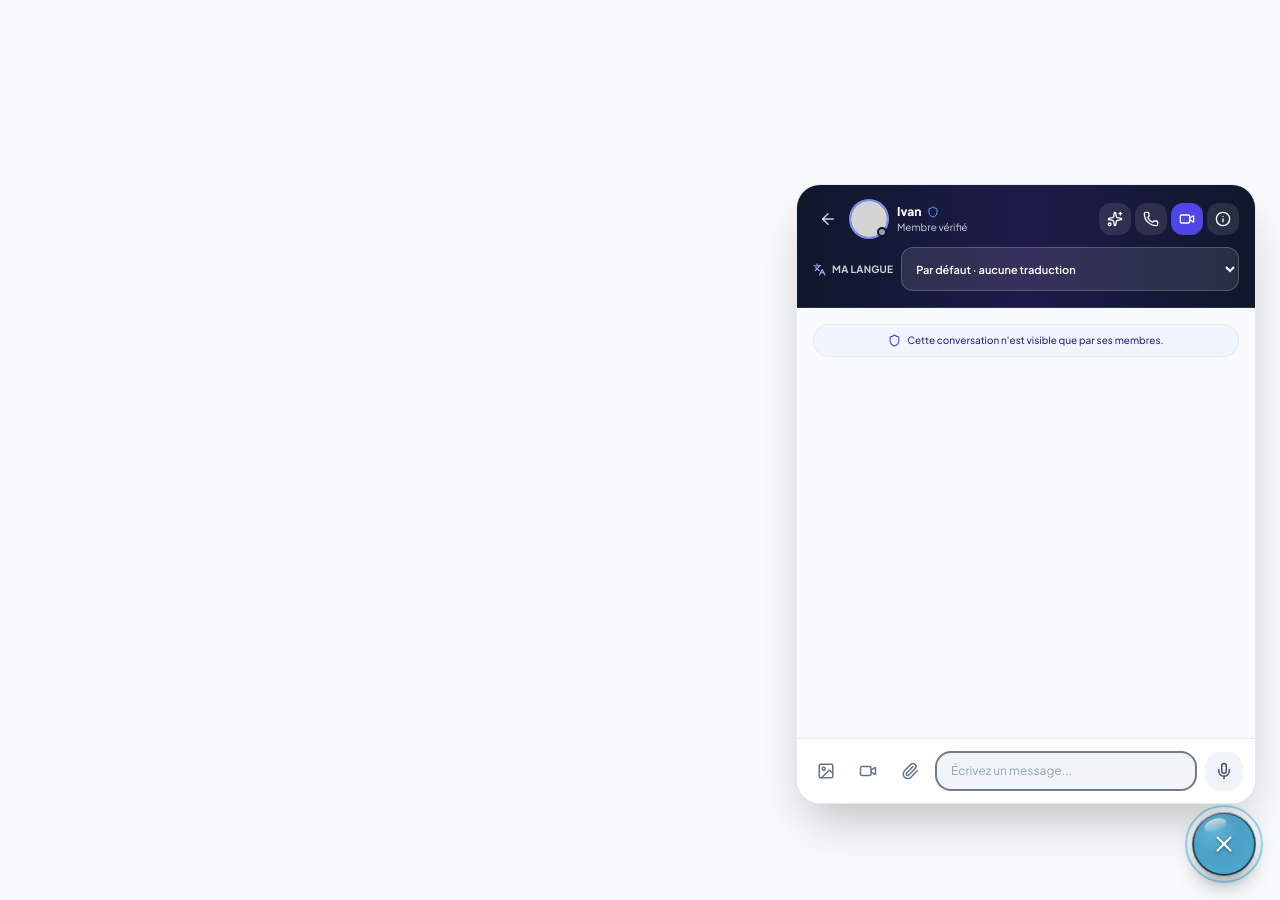
Test case: MoocChatFloating — signaux, multi-appareils (VF-2) et push (VF-1) › appel sortant : push incoming_call en tâche de fond ; call_accepted arrête le retour d’appel ; annulation avant décroché → push « manqué »
What coordinates should you click on to do the following:
click the button titled "Appel Audio"
I would click on:
 (1151, 219)
Its box is [1135, 203, 1167, 235].
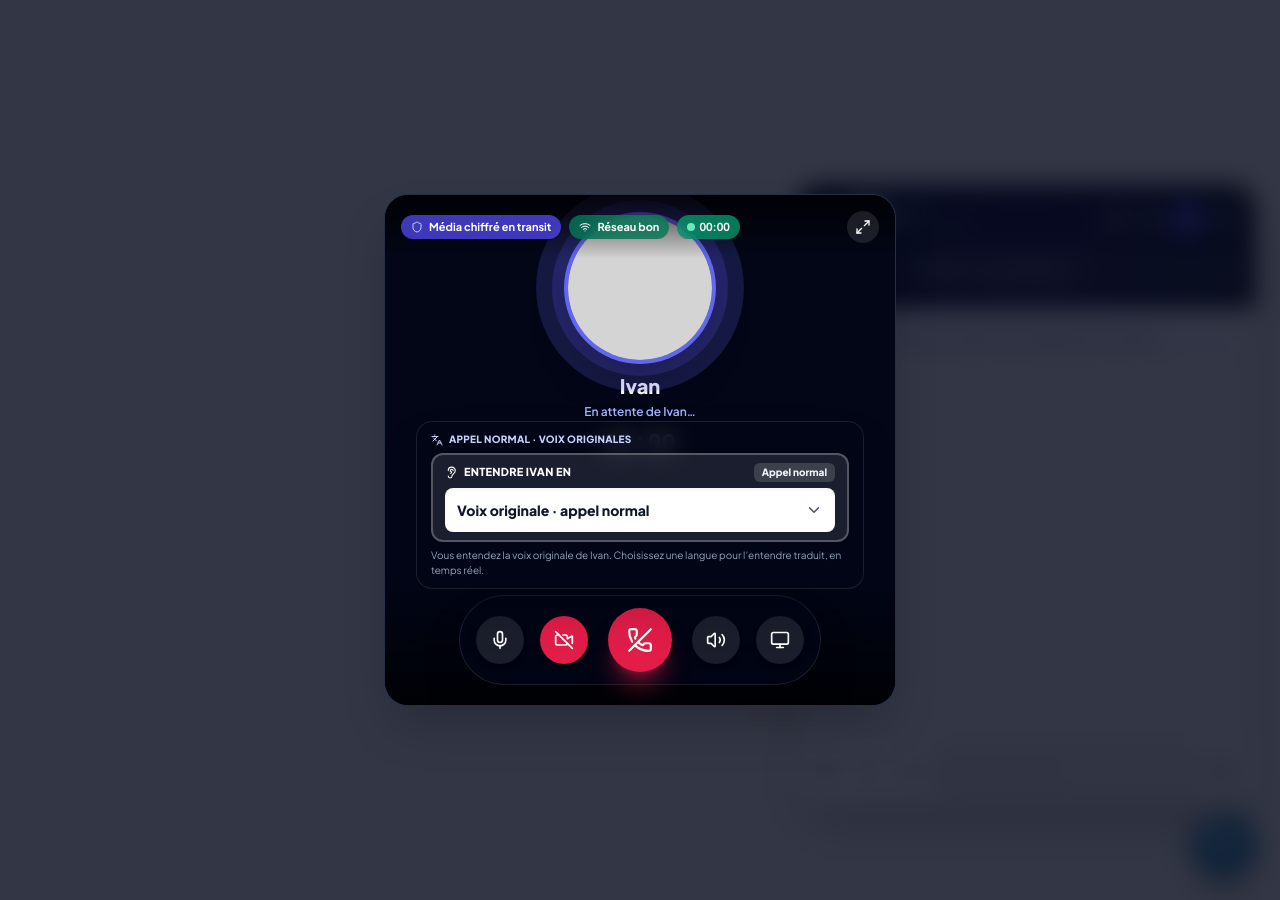
Expected: the text "Sonnerie en cours…" is not shown
Now the text "Sonnerie en cours…" is shown, box [584, 404, 696, 420]
Note: Deuxième appel, annulé par l'appelant avant le décroché.
What coordinates should you click on to do the following:
click the button named "Raccrocher"
I would click on:
 (640, 640)
Its box is [608, 608, 672, 672].
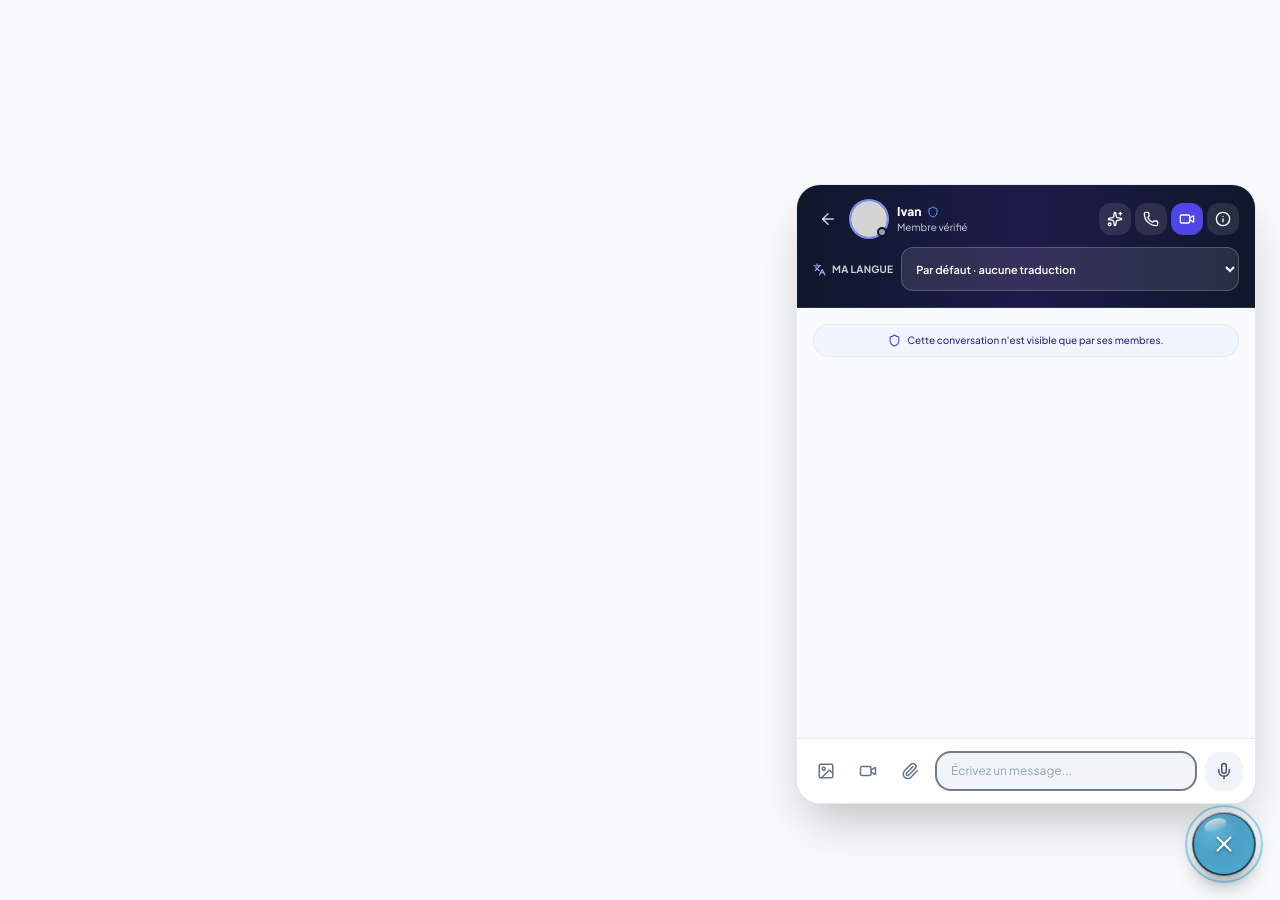
Now the button "Raccrocher" is gone
What coordinates should you click on to do the following:
click the button titled "Appel Audio"
I would click on:
 (1151, 219)
Its box is [1135, 203, 1167, 235].
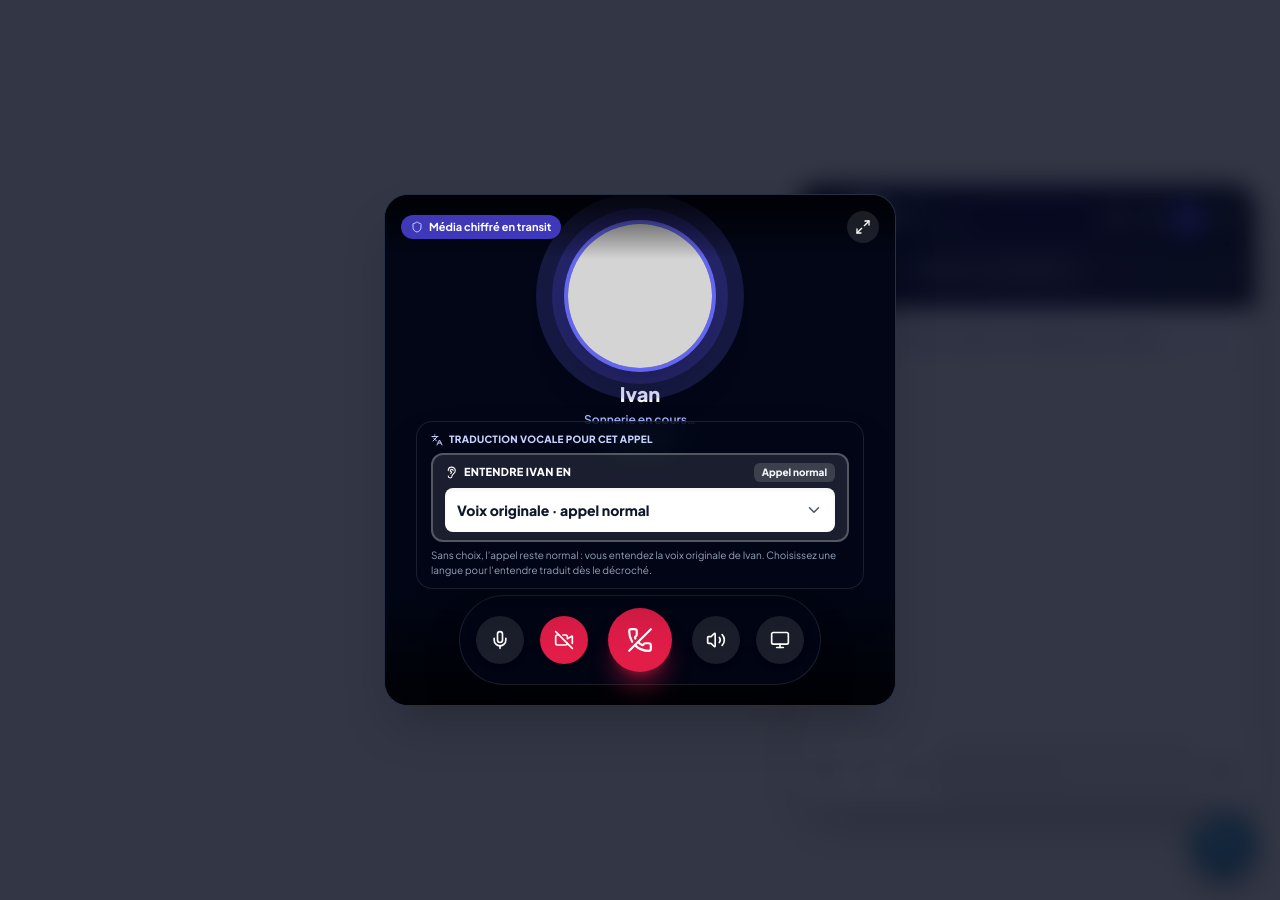
Now the text "Sonnerie en cours…" is shown, box [584, 412, 696, 428]
What coordinates should you click on to do the following:
click the button named "Raccrocher"
I would click on:
 (640, 640)
Its box is [608, 608, 672, 672].
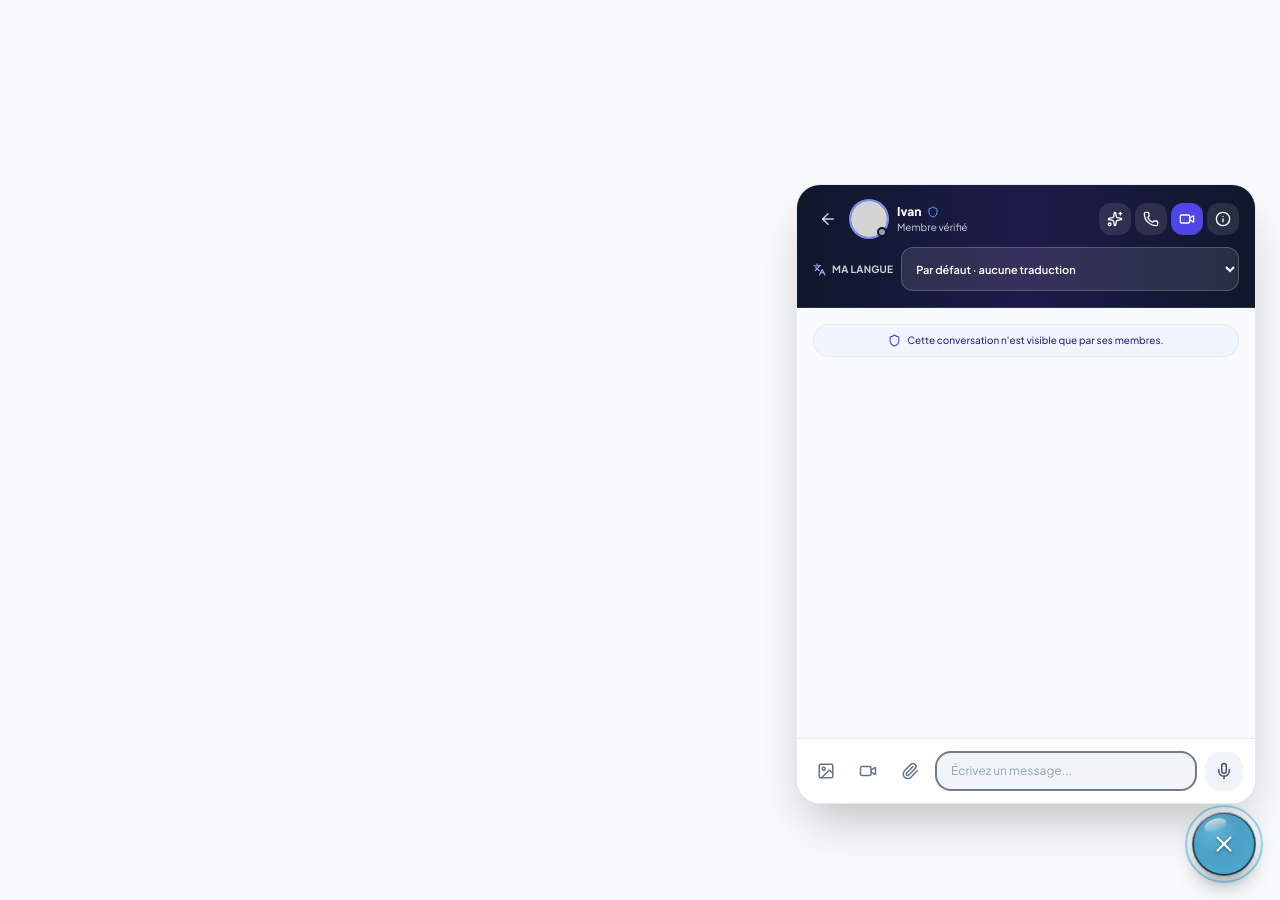
Now the text "Sonnerie en cours…" is gone
